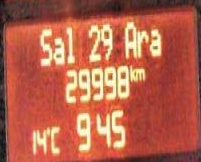1: (30, 127, 36, 157)
2: (87, 22, 100, 59), (63, 66, 76, 101)
4: (95, 108, 110, 148), (37, 127, 45, 155)
5: (110, 107, 125, 148)
8: (117, 61, 128, 97)
9: (75, 113, 90, 148), (102, 63, 117, 97), (76, 67, 90, 101), (90, 64, 103, 98), (100, 20, 111, 58)
X: (39, 27, 52, 66), (123, 20, 136, 58), (64, 23, 75, 63), (150, 24, 161, 57), (136, 27, 148, 57), (50, 123, 61, 155), (53, 36, 64, 63), (135, 64, 145, 80), (129, 61, 135, 80)
